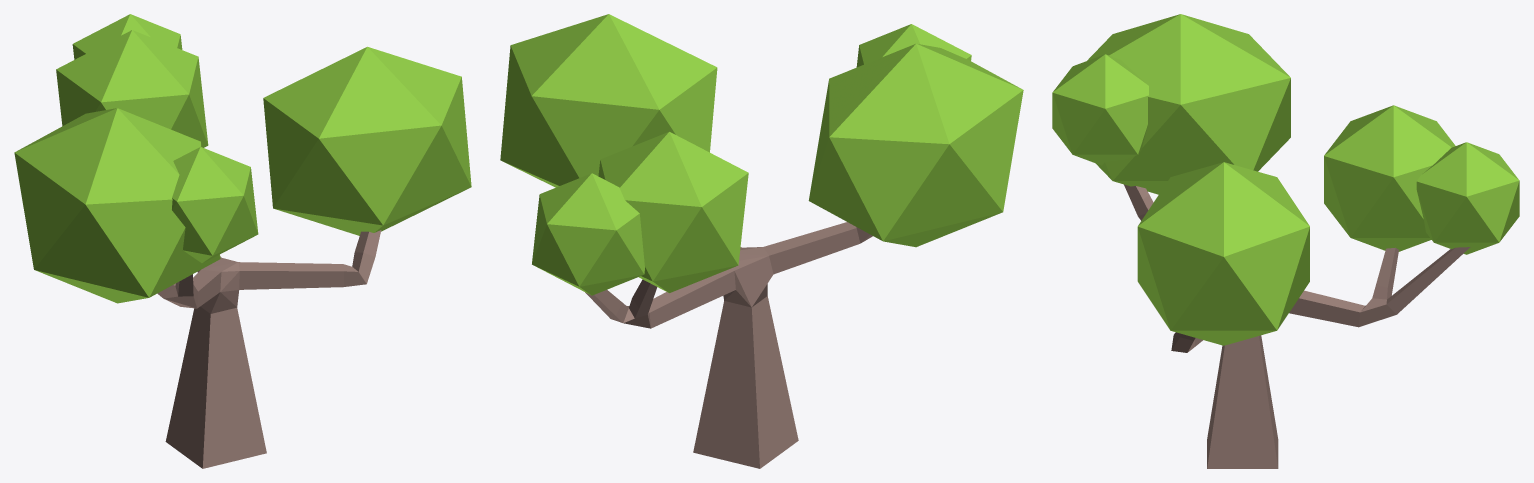
The model's file is pohon3.glb.
3 views of the same model, side by side, from view 1: azimuth 30°, elevation 25°; view 2: azimuth 150°, elevation 25°; view 3: azimuth 270°, elevation 25° (orthographic). The views are drawn at different scales.
Parts seen in each view (by area): view 1: Icosphere.002, Icosphere.003, Plane, Icosphere.001, Icosphere.008, Icosphere; view 2: Icosphere.003, Icosphere.002, Plane, Icosphere.001, Icosphere, Icosphere.008; view 3: Icosphere.002, Icosphere.003, Plane, Icosphere.001, Icosphere, Icosphere.008.
Part boxes in pixels (bbox=[...]): Icosphere.002: bbox=[263, 46, 471, 235]; Icosphere.003: bbox=[14, 108, 220, 303]; Plane: bbox=[157, 230, 381, 468]; Icosphere.001: bbox=[56, 30, 208, 147]; Icosphere.008: bbox=[172, 146, 258, 263]; Icosphere: bbox=[72, 14, 182, 59]; Icosphere.003: bbox=[808, 43, 1023, 247]; Icosphere.002: bbox=[500, 14, 717, 187]; Plane: bbox=[585, 222, 872, 468]; Icosphere.001: bbox=[598, 131, 748, 293]; Icosphere: bbox=[532, 173, 644, 295]; Icosphere.008: bbox=[856, 24, 971, 67]; Icosphere.002: bbox=[1137, 162, 1309, 345]; Icosphere.003: bbox=[1087, 14, 1290, 194]; Plane: bbox=[1124, 184, 1470, 468]; Icosphere.001: bbox=[1324, 105, 1455, 251]; Icosphere: bbox=[1416, 142, 1519, 254]; Icosphere.008: bbox=[1052, 54, 1148, 165].
Bounding box in the file's own units: 4.95 × 4.15 × 4.64.
